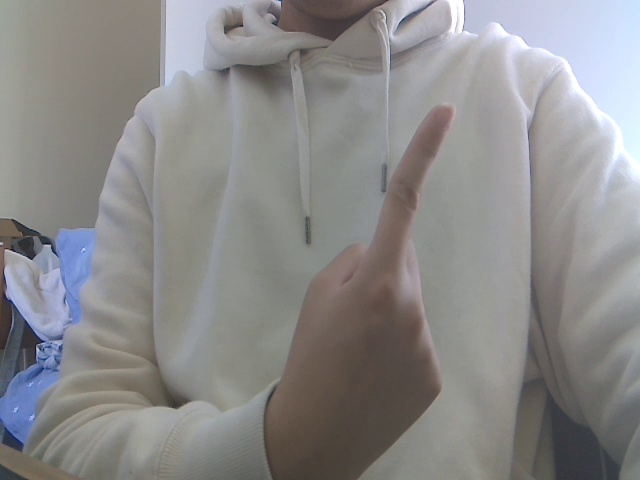hand_gesture_1: (257, 82, 465, 480)
